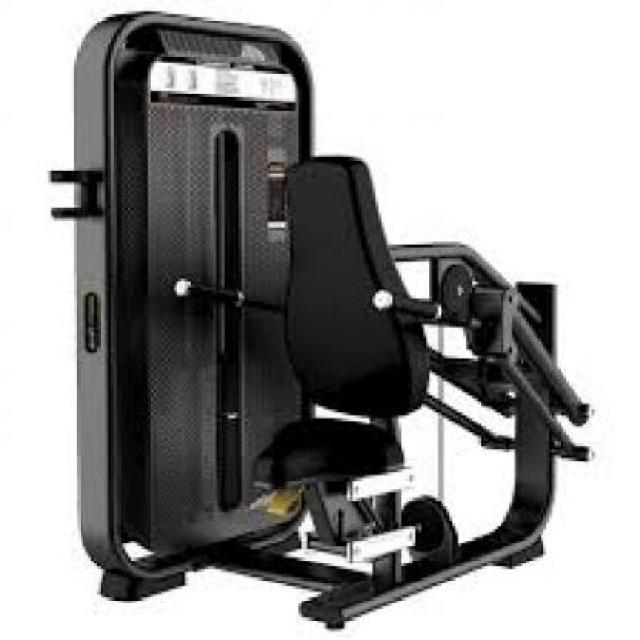seated dip machine: (51, 12, 597, 630)
